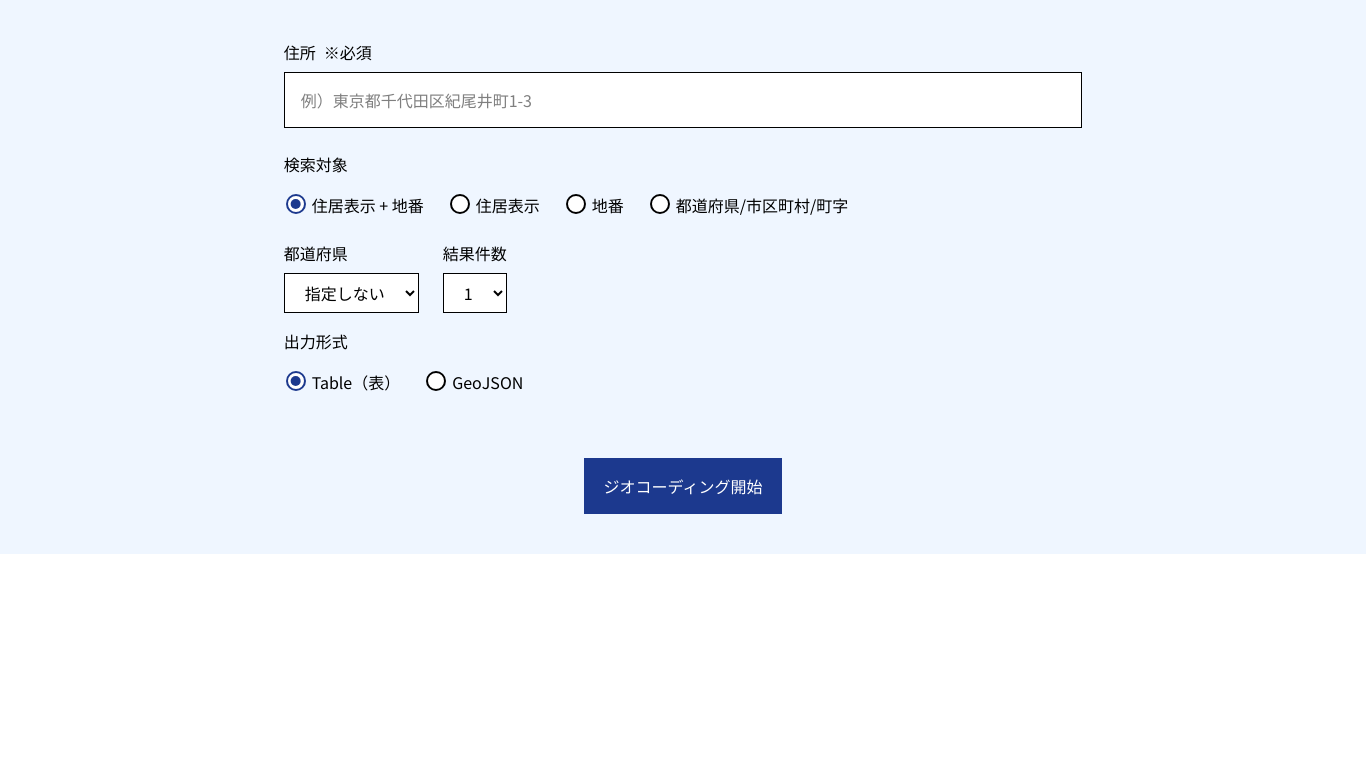
Scenario: OneLineGeocodingコンポーネント › ジオコーディング結果が表示される › エラーレスポンスの message が表示される
Type "東京都千代田区紀尾井町1-3" into the field with test id "input-address" at (683,100), box [284, 72, 1082, 128]
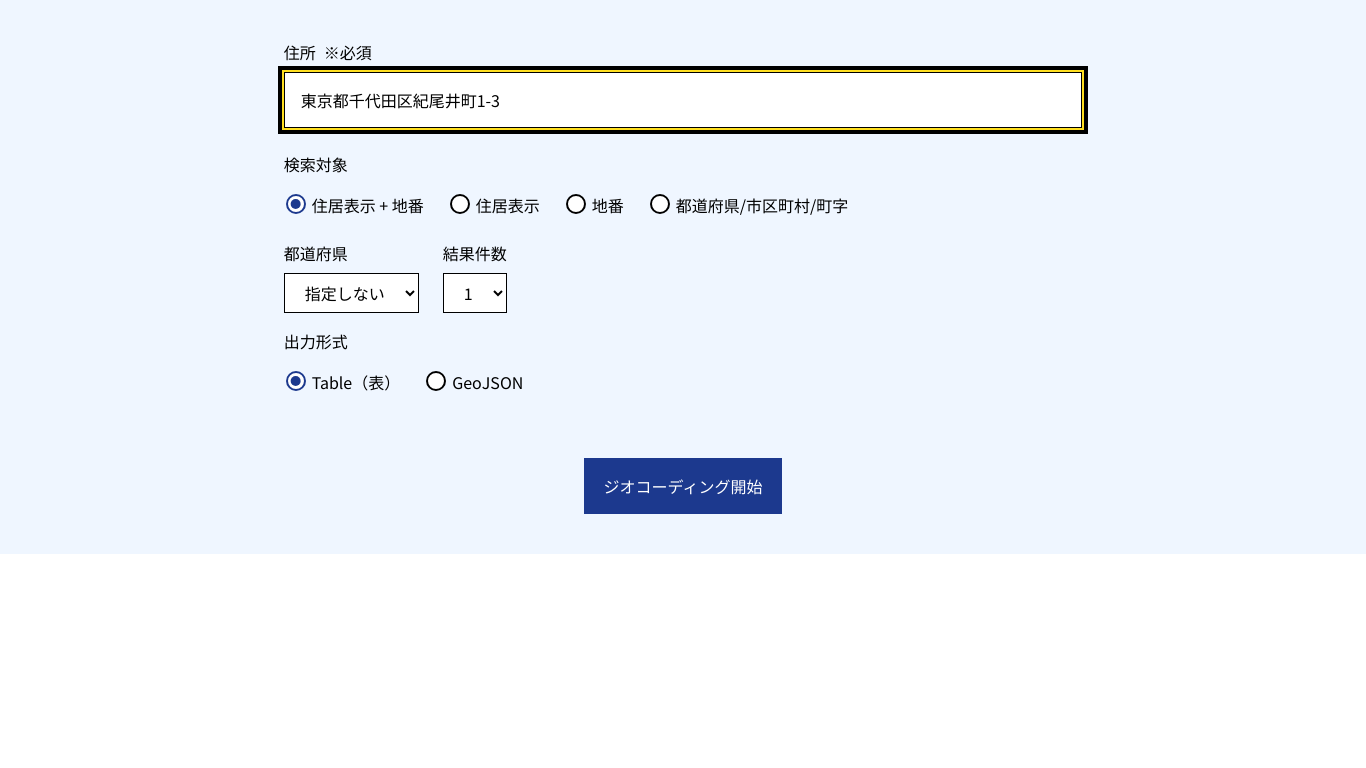
Click the radio button labelled "地番" at (576,204), box [566, 194, 586, 214]
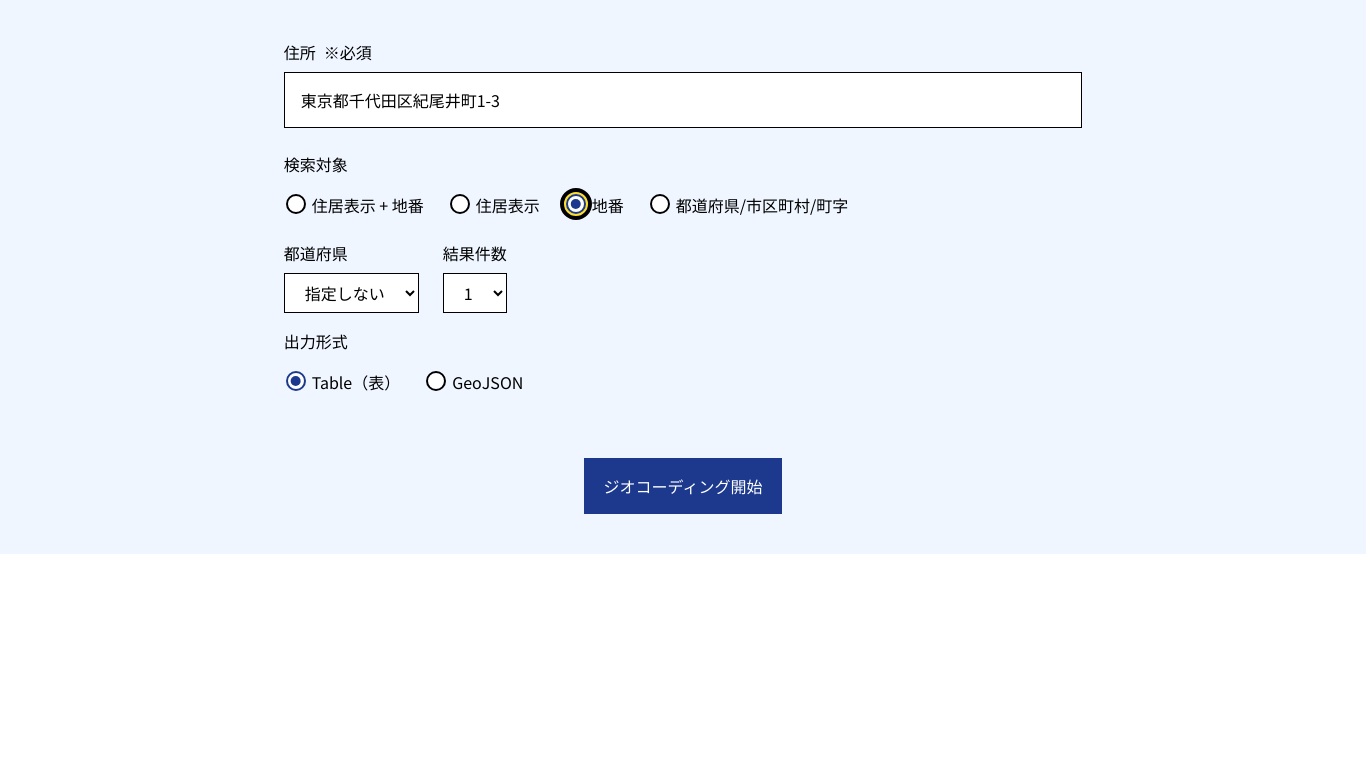
Click the button "ジオコーディング開始" at (683,486), box [584, 458, 782, 514]
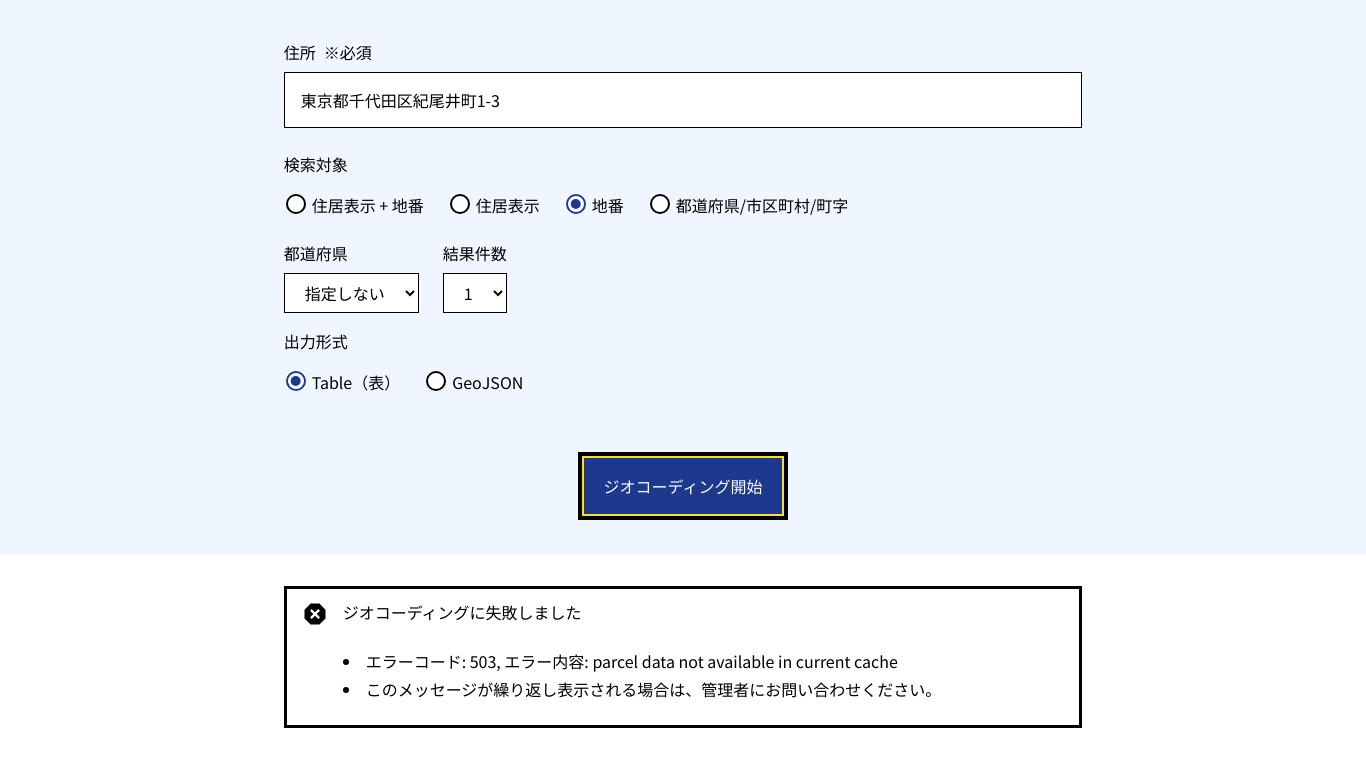
Check: the list item "エラーコード: 503, エラー内容: parcel data not available in current cache" is shown, box [366, 649, 898, 673]
